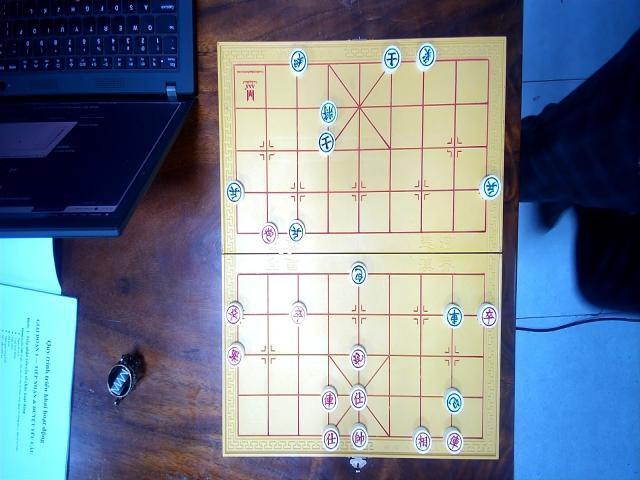piece: (478, 173, 500, 200), (442, 301, 463, 328), (412, 426, 432, 454), (442, 426, 462, 454), (443, 386, 463, 414), (477, 301, 497, 328), (381, 45, 401, 72), (416, 42, 436, 69), (349, 423, 368, 451), (322, 424, 341, 451), (349, 344, 368, 371), (225, 301, 244, 327), (349, 384, 367, 411), (320, 385, 338, 412), (350, 260, 368, 287), (289, 48, 307, 75), (226, 342, 245, 367), (225, 179, 244, 204), (319, 99, 337, 125), (317, 131, 335, 155), (290, 300, 306, 324), (288, 219, 304, 242), (260, 222, 276, 244)
